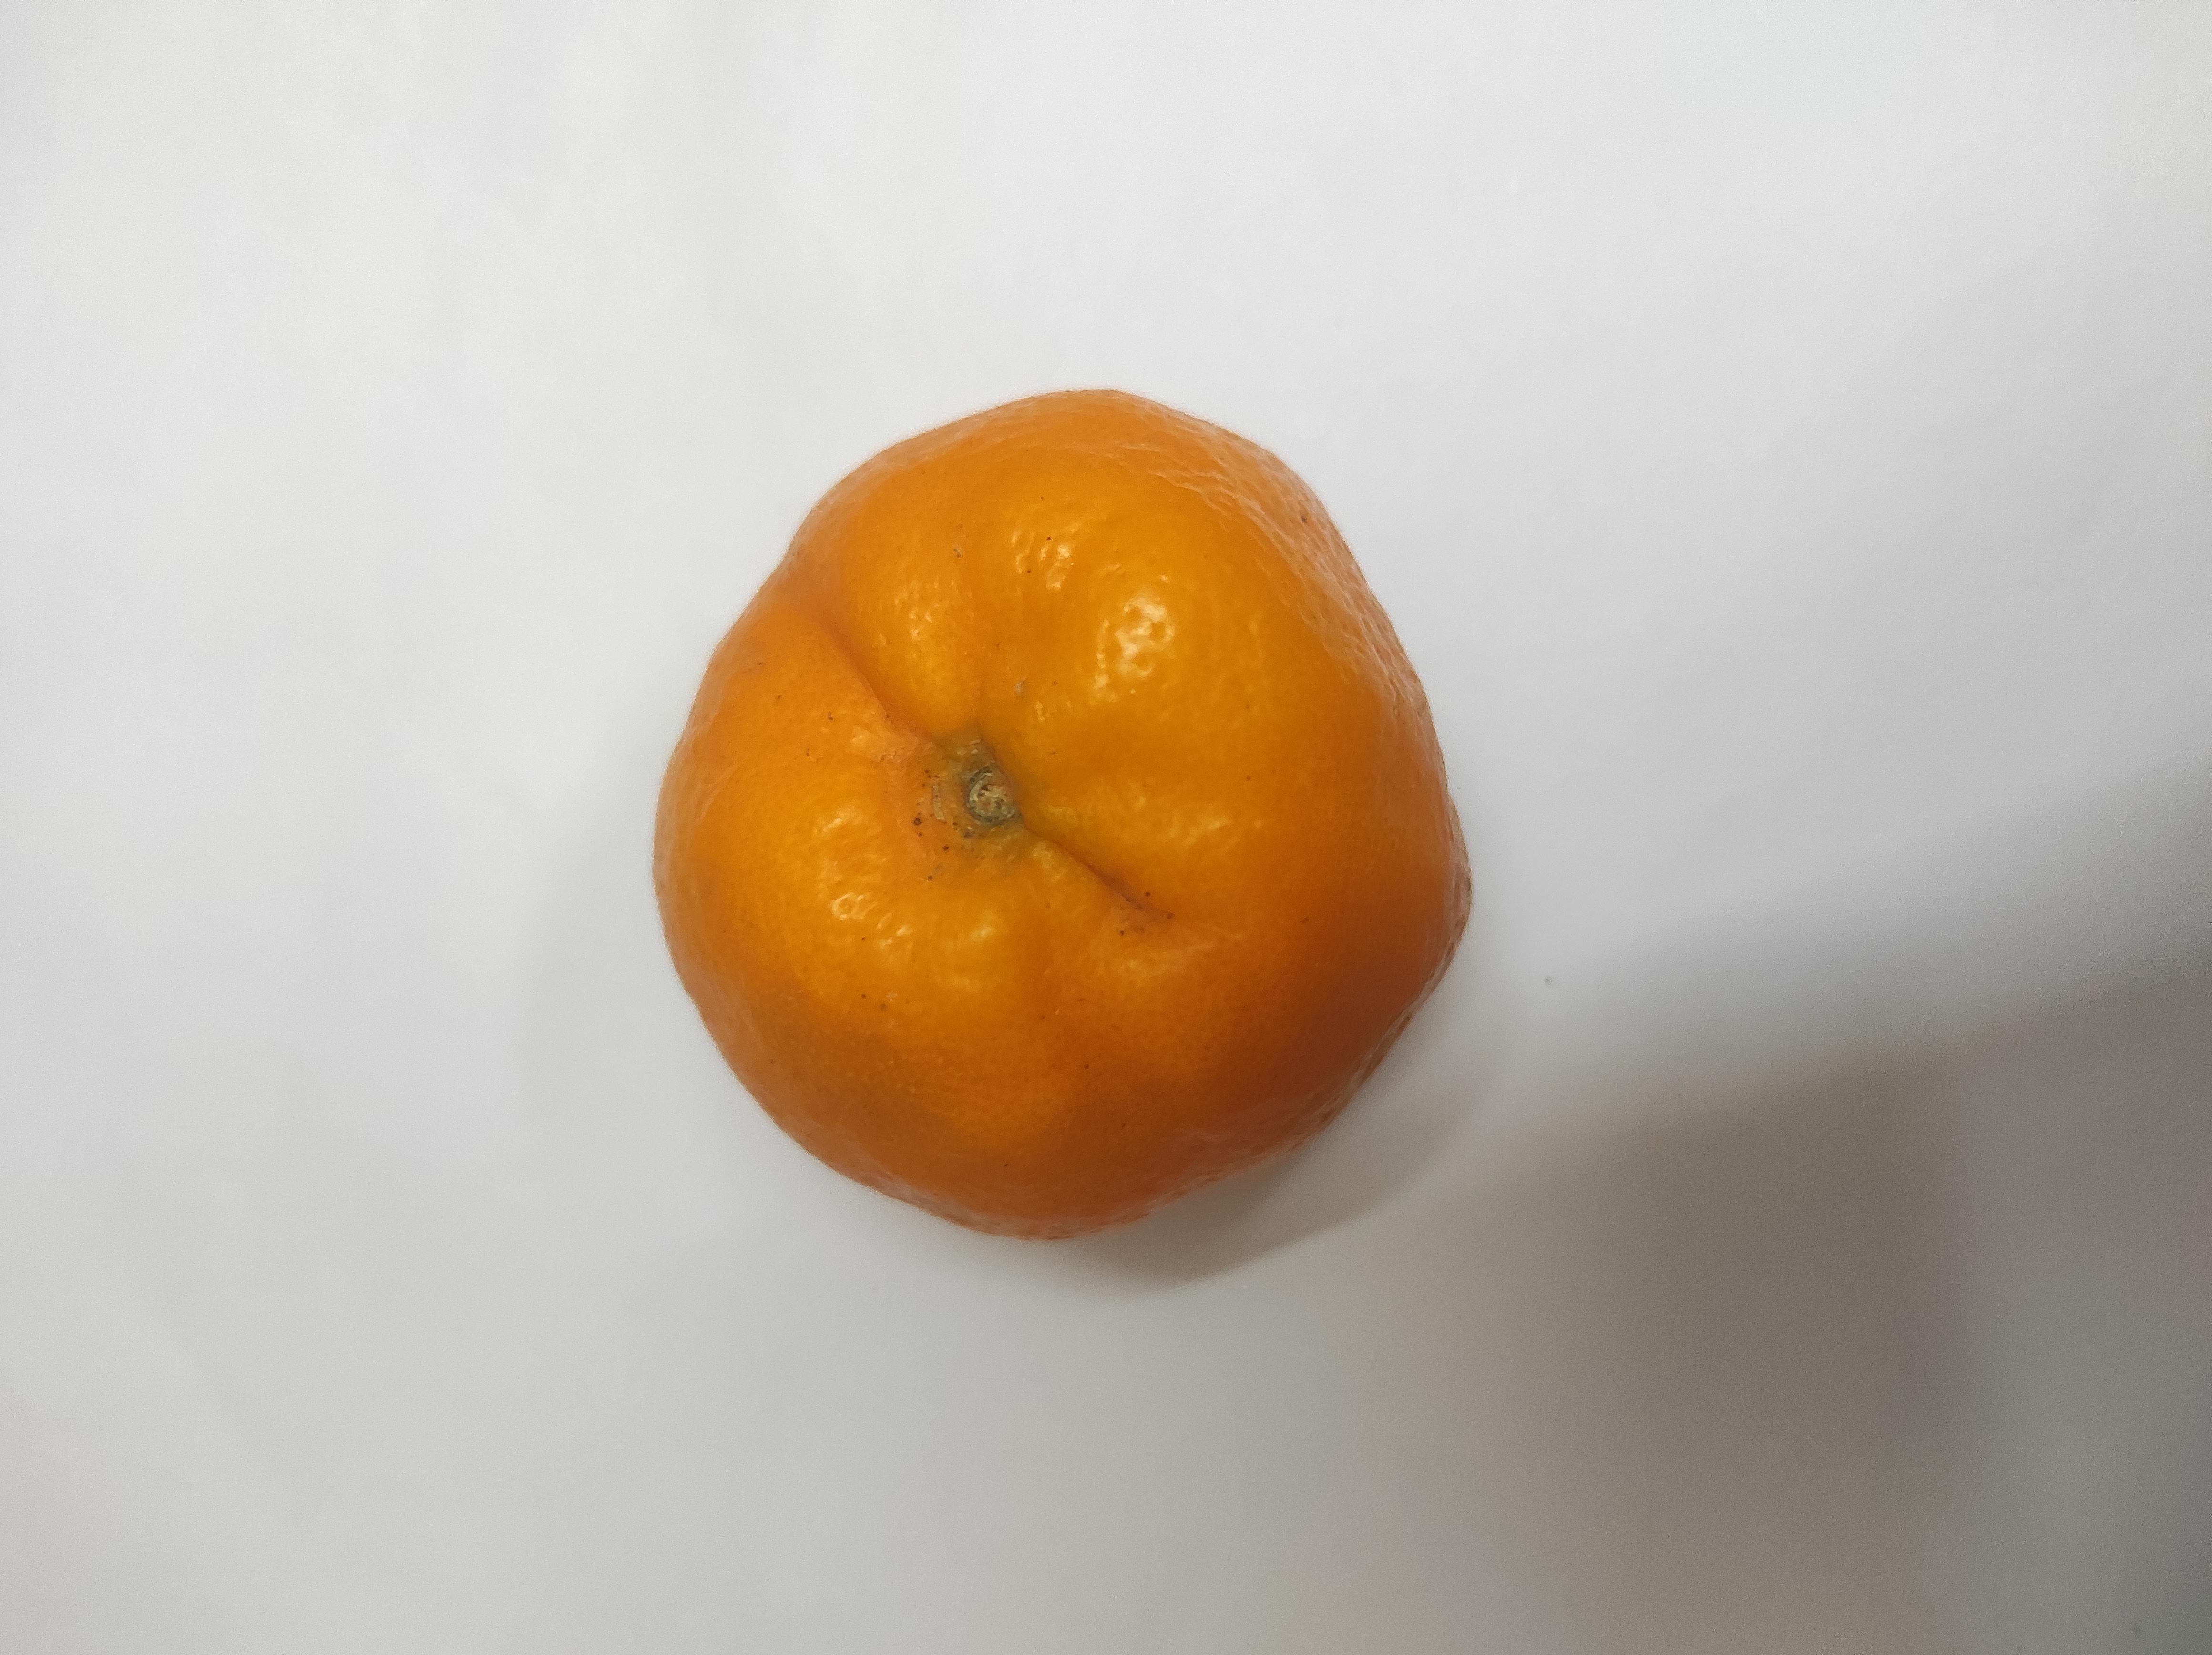Ripe: (560, 489, 1696, 1109)
